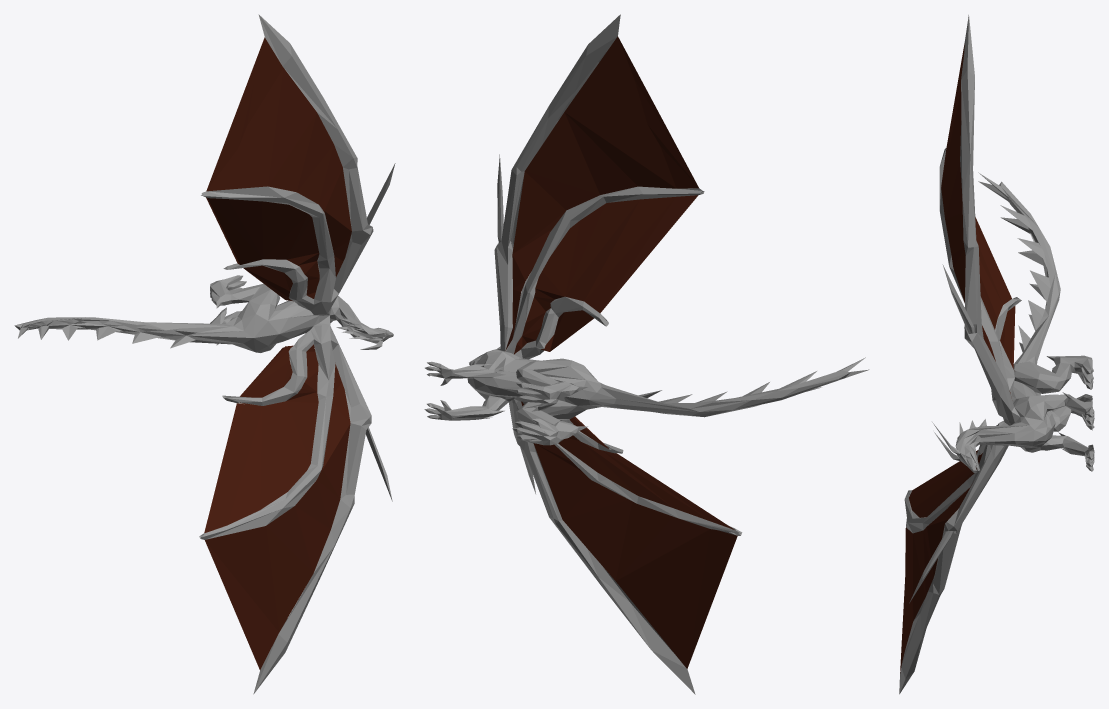
File: Dragon_2.5_For_Animations_000471.obj
3 renders of one model, left to right at view 1: azimuth 30°, elevation 25°; view 2: azimuth 150°, elevation 25°; view 3: azimuth 270°, elevation 25°, orthographic. The views are drawn at different scales.
Parts seen in each view (by area): view 1: Cube_Cube.004; view 2: Cube_Cube.004; view 3: Cube_Cube.004.
Boxes of the visible parts, x1,y1,x2,y2 form: Cube_Cube.004: (14, 14, 395, 694); Cube_Cube.004: (424, 14, 869, 694); Cube_Cube.004: (899, 15, 1094, 694).
Size of the model in its own units: 91.29 by 151 by 38.19.
